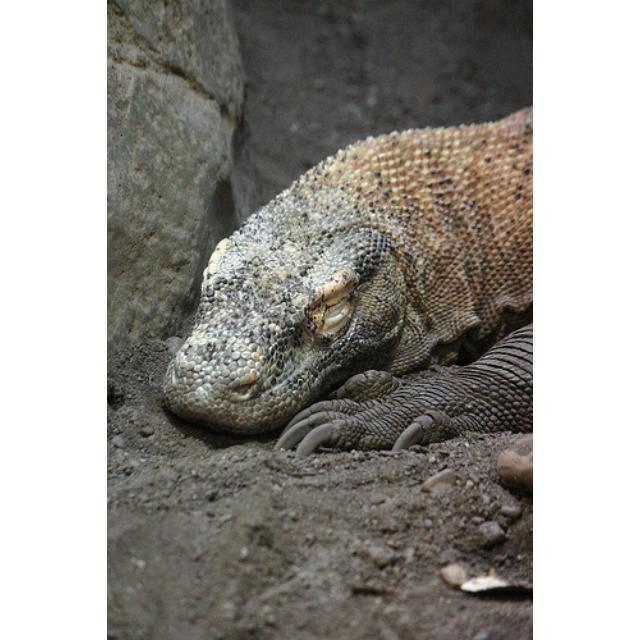KomodoDragon: (161, 106, 529, 455)
